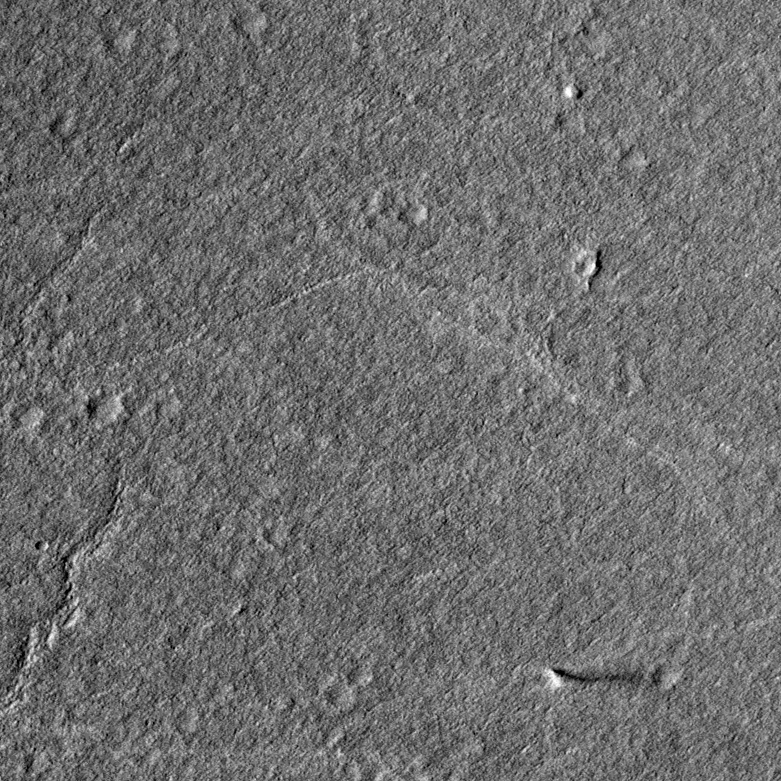dust_devil: (543, 666, 661, 693)
